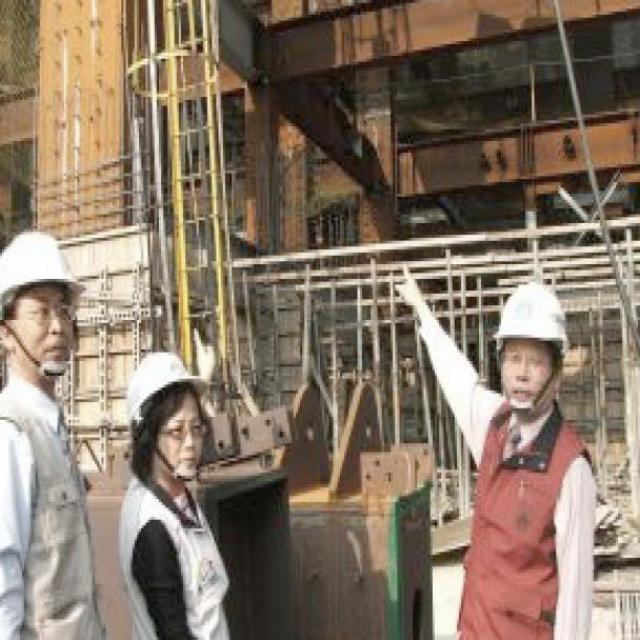helmet: (0, 197, 84, 402), (117, 332, 209, 505), (490, 264, 570, 435)
